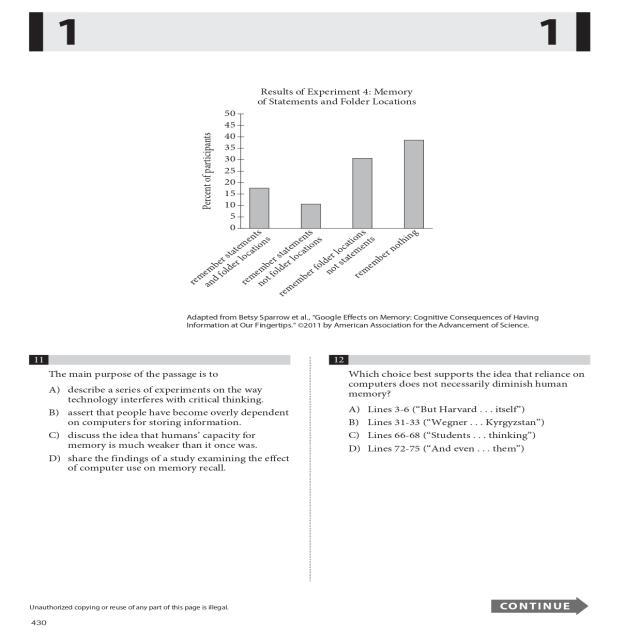Answer_Block: (24, 379, 298, 477), (318, 399, 598, 459)
Instruction: (161, 76, 549, 342)
Question_Answer_Block: (161, 76, 549, 342), (318, 352, 598, 582), (24, 352, 298, 584)
Question_Block: (318, 352, 598, 400), (24, 352, 298, 380)
